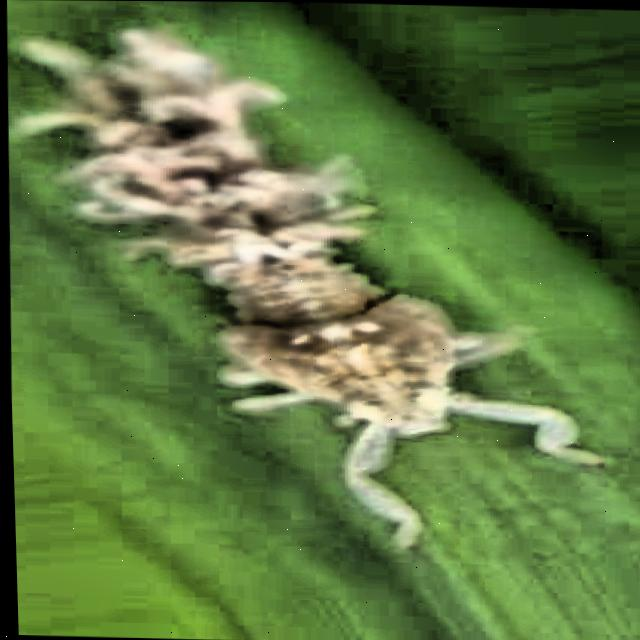Pyrilla-perpusilla: (19, 1, 625, 507)
